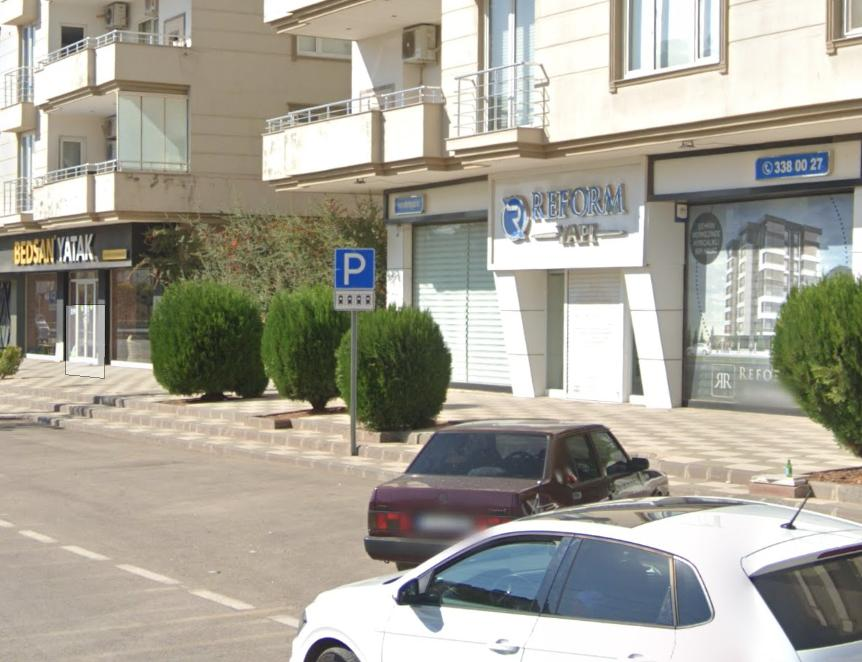park: (337, 250, 372, 287)
